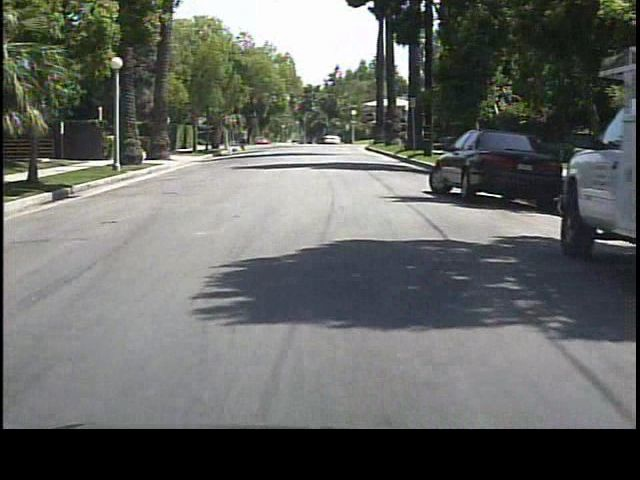person: (240, 128, 253, 156)
